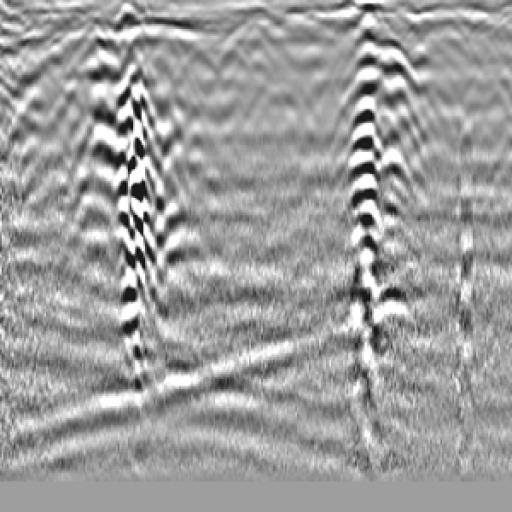metalic: (368, 30, 433, 241)
